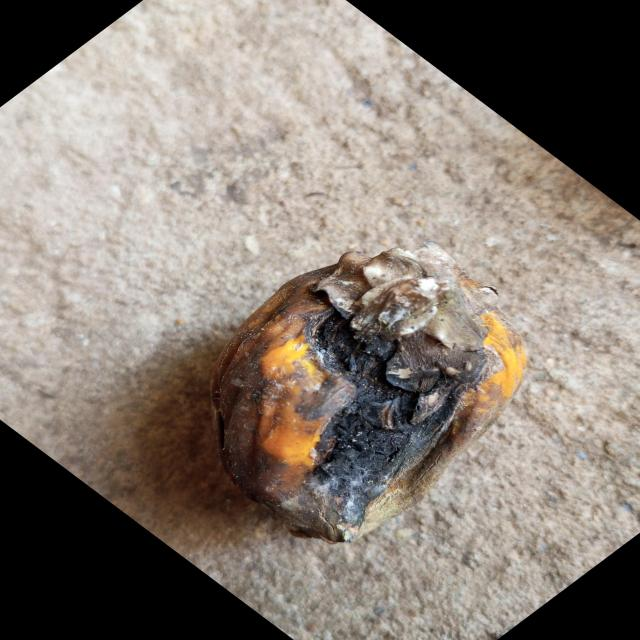damaged: (210, 242, 529, 545)
